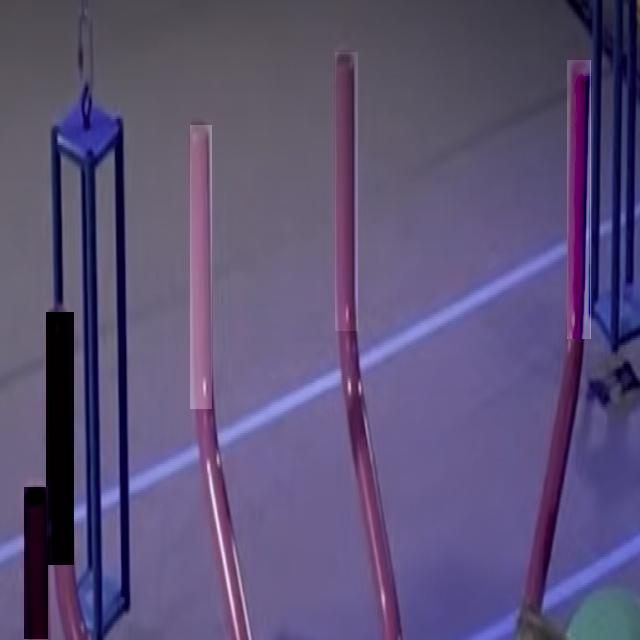Reef: (46, 312, 74, 565), (568, 60, 592, 339), (335, 52, 358, 331), (190, 125, 212, 409), (24, 487, 48, 639)
